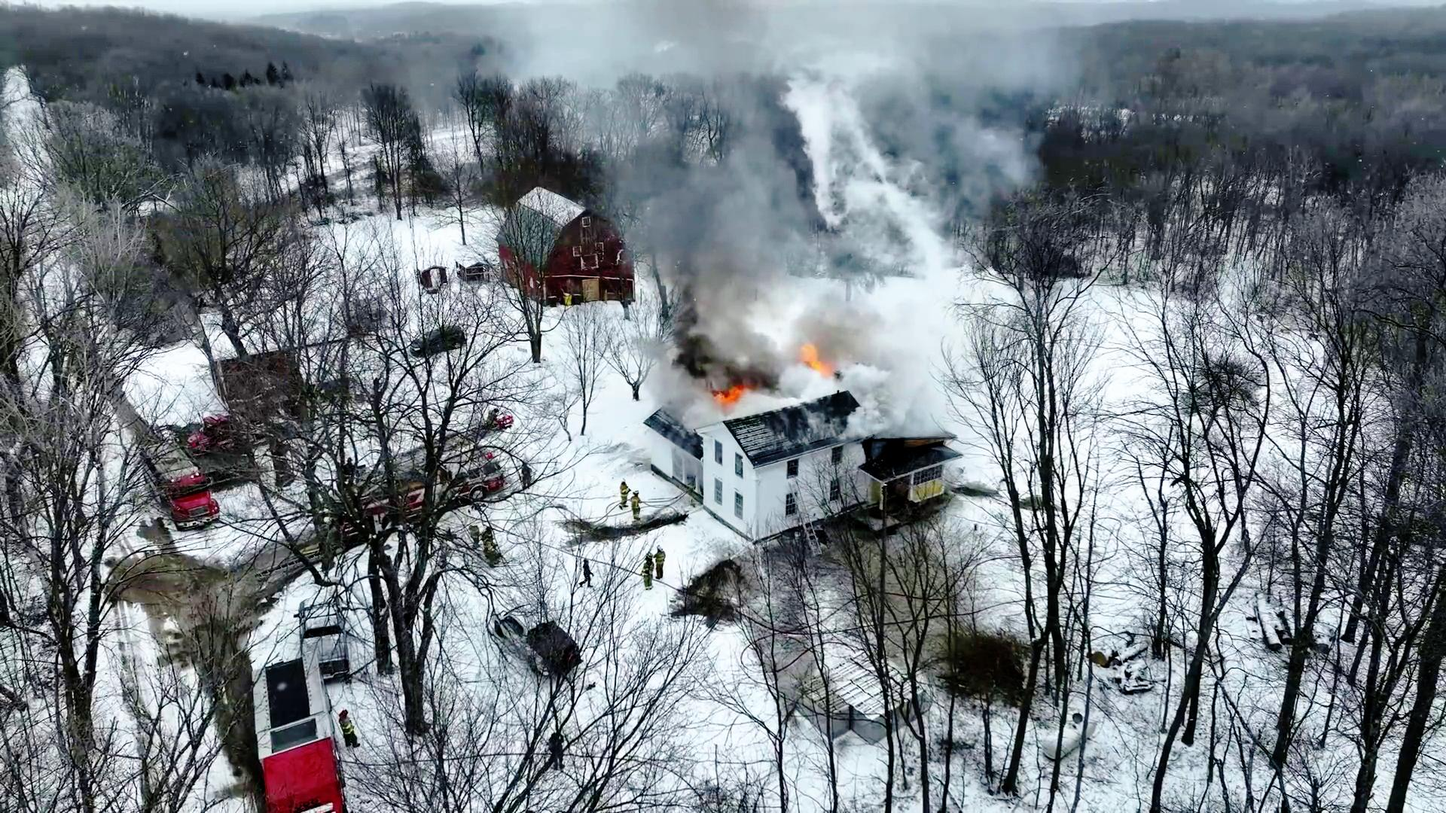smoke: (680, 290, 796, 370)
